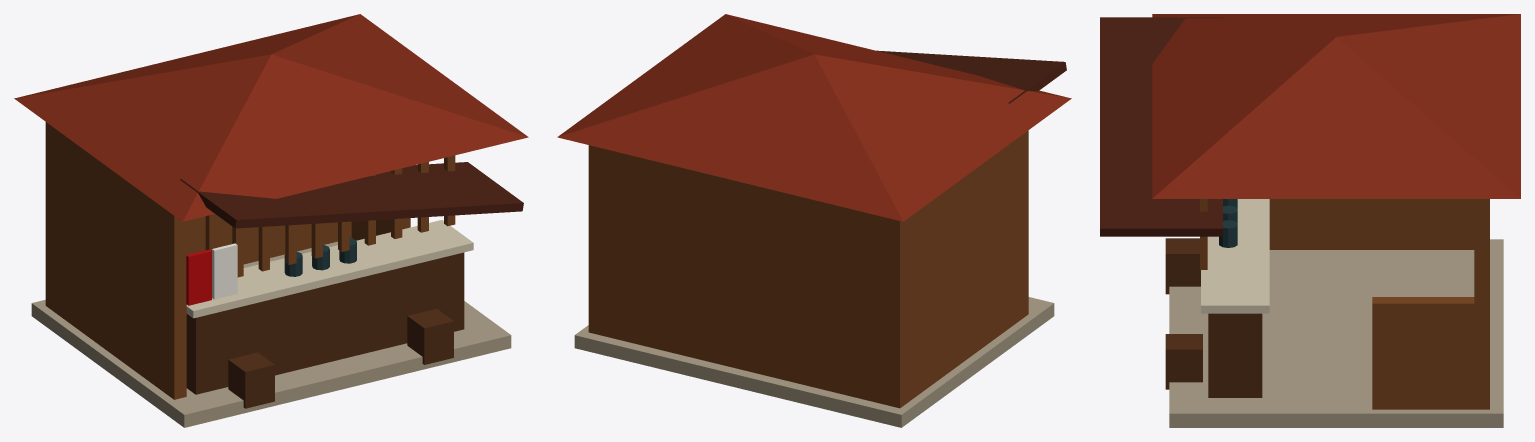
File: WarungKopi.obj
3 views of the same model, side by side, from view 1: azimuth 30°, elevation 25°; view 2: azimuth 150°, elevation 25°; view 3: azimuth 270°, elevation 25° (orthographic). The views are drawn at different scales.
Visible parts, largest first — view 1: ROOF, LEFT_WALL, COUNTER, PLINTH, AWNING, COUNTER_TOP, BACK_WALL, STOOL_1.15, STOOL_-1.15, ACCENT_RED, ACCENT_WHITE, RIGHT_LOW (+1 smaller); view 2: BACK_WALL, ROOF, LEFT_WALL, PLINTH, AWNING; view 3: ROOF, PLINTH, AWNING, RIGHT_LOW, LEFT_WALL, COUNTER_TOP, COUNTER, BACK_WALL, STOOL_1.15, STOOL_-1.15, JAR_2.
Part boxes in pixels (<box>): ROOF: <box>14,14,528,221</box>; LEFT_WALL: <box>48,124,186,399</box>; COUNTER: <box>186,252,464,394</box>; PLINTH: <box>31,241,511,427</box>; AWNING: <box>180,162,523,228</box>; COUNTER_TOP: <box>186,220,473,318</box>; BACK_WALL: <box>45,122,351,310</box>; STOOL_1.15: <box>407,308,453,364</box>; STOOL_-1.15: <box>228,352,274,408</box>; ACCENT_RED: <box>186,249,211,305</box>; ACCENT_WHITE: <box>212,243,237,299</box>; RIGHT_LOW: <box>351,218,410,240</box>; BACK_WALL: <box>588,145,902,408</box>; ROOF: <box>557,14,1071,221</box>; LEFT_WALL: <box>902,130,1028,405</box>; PLINTH: <box>574,297,1054,427</box>; AWNING: <box>877,50,1066,103</box>; ROOF: <box>1152,14,1520,198</box>; PLINTH: <box>1169,239,1503,427</box>; AWNING: <box>1100,17,1222,236</box>; RIGHT_LOW: <box>1372,297,1485,409</box>; LEFT_WALL: <box>1269,199,1474,249</box>; COUNTER_TOP: <box>1201,199,1269,313</box>; COUNTER: <box>1208,313,1262,397</box>; BACK_WALL: <box>1474,199,1489,409</box>; STOOL_1.15: <box>1165,334,1202,389</box>; STOOL_-1.15: <box>1165,238,1200,294</box>; JAR_2: <box>1219,220,1237,247</box>.
Bounding box in the file's own units: 4.45 × 3.41 × 4.28.
